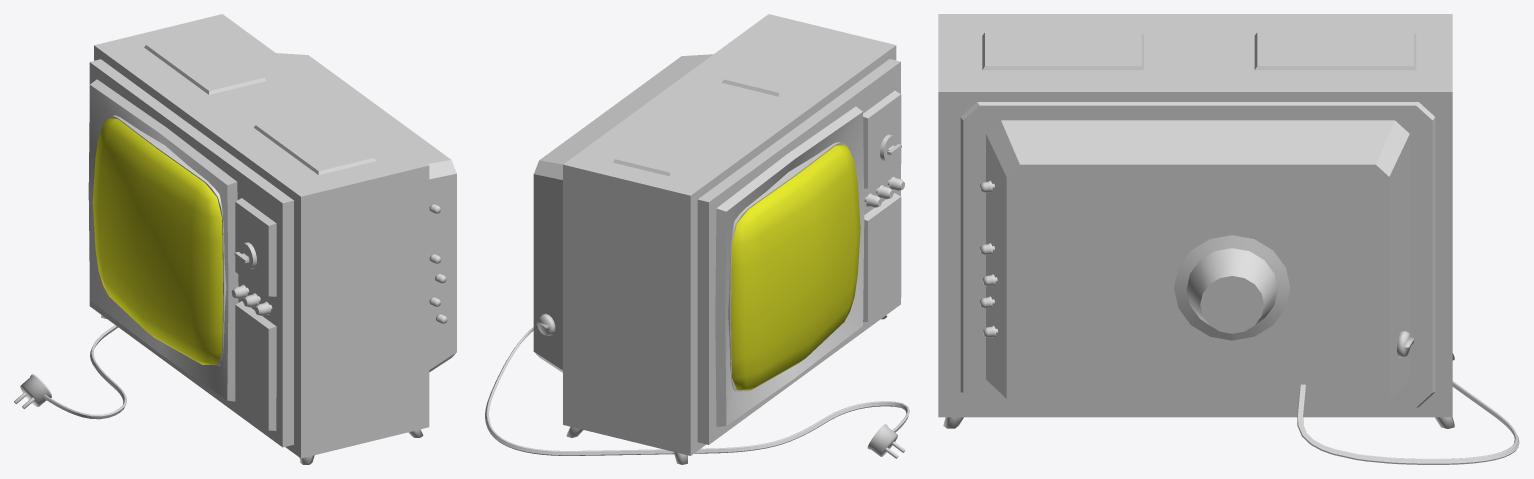
The picture shows the model from 3 angles, left to right: view 1: azimuth 30°, elevation 25°; view 2: azimuth 150°, elevation 25°; view 3: azimuth 270°, elevation 25°; orthographic projection. The views are drawn at different scales.
Visible parts, largest first — view 1: Korpus_Low, Tele_Low.001, Gpanel2_Low, Gpanel1_Low, Korpus2_Low, PanelUp_Low, PanelPer_Low, Derzhak_Low, Provod_Low, OsnVilki_Low, Knopki_Low, KnopkiZad_Low; view 2: Korpus_Low, Tele_Low.001, Gpanel2_Low, Gpanel1_Low, Korpus2_Low, PanelUp_Low, PanelPer_Low, Provod_Low, Derzhak_Low, Knopki_Low, OsnVilki_Low; view 3: Korpus2_Low, Korpus_Low, PanelUp_Low, Krug_Low, Provod_Low, KnopkiZad_Low.
Part boxes in pixels (<box>): Korpus_Low: <box>94,14,429,458</box>; Tele_Low.001: <box>92,118,222,365</box>; Gpanel2_Low: <box>89,59,293,447</box>; Gpanel1_Low: <box>88,79,238,401</box>; Korpus2_Low: <box>276,53,456,372</box>; PanelUp_Low: <box>144,31,375,174</box>; PanelPer_Low: <box>235,198,276,430</box>; Derzhak_Low: <box>107,115,226,367</box>; Provod_Low: <box>43,325,126,419</box>; OsnVilki_Low: <box>20,374,51,406</box>; Knopki_Low: <box>231,284,272,315</box>; KnopkiZad_Low: <box>429,203,447,323</box>; Korpus_Low: <box>563,14,896,455</box>; Tele_Low.001: <box>731,145,860,390</box>; Gpanel2_Low: <box>697,59,900,444</box>; Gpanel1_Low: <box>715,106,864,426</box>; Korpus2_Low: <box>533,54,712,372</box>; PanelUp_Low: <box>613,33,843,176</box>; PanelPer_Low: <box>863,90,901,321</box>; Provod_Low: <box>485,327,909,455</box>; Derzhak_Low: <box>728,142,846,392</box>; Knopki_Low: <box>864,176,904,207</box>; OsnVilki_Low: <box>867,424,897,456</box>; Korpus2_Low: <box>960,102,1435,410</box>; Korpus_Low: <box>938,14,1452,417</box>; PanelUp_Low: <box>982,32,1416,70</box>; Krug_Low: <box>1174,235,1290,340</box>; Provod_Low: <box>1297,381,1519,464</box>; KnopkiZad_Low: <box>979,180,997,337</box>.
Size of the model in its own units: 22.17 by 16.23 by 24.28.
